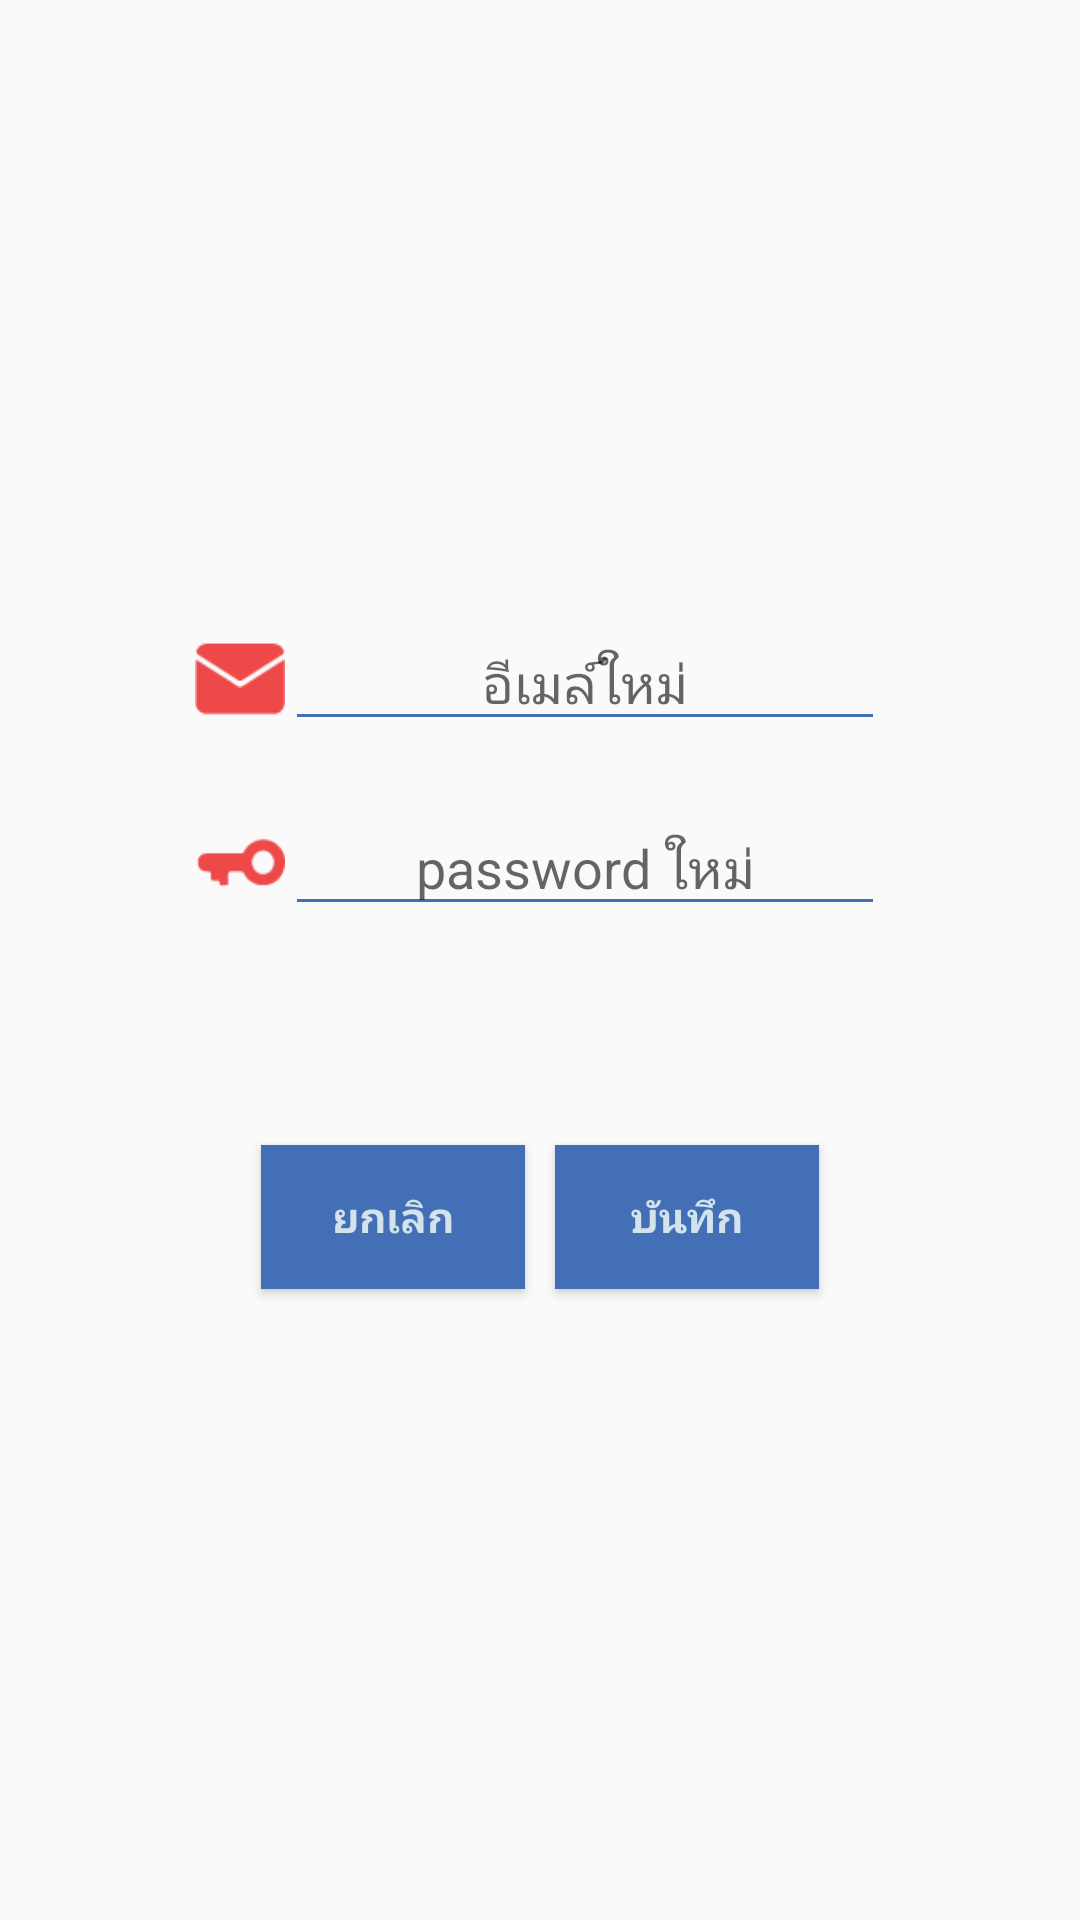

Icon click points for this 1080*1920 phone screenshot, format [x,y]:
email: [240,679]
key: [241,863]
